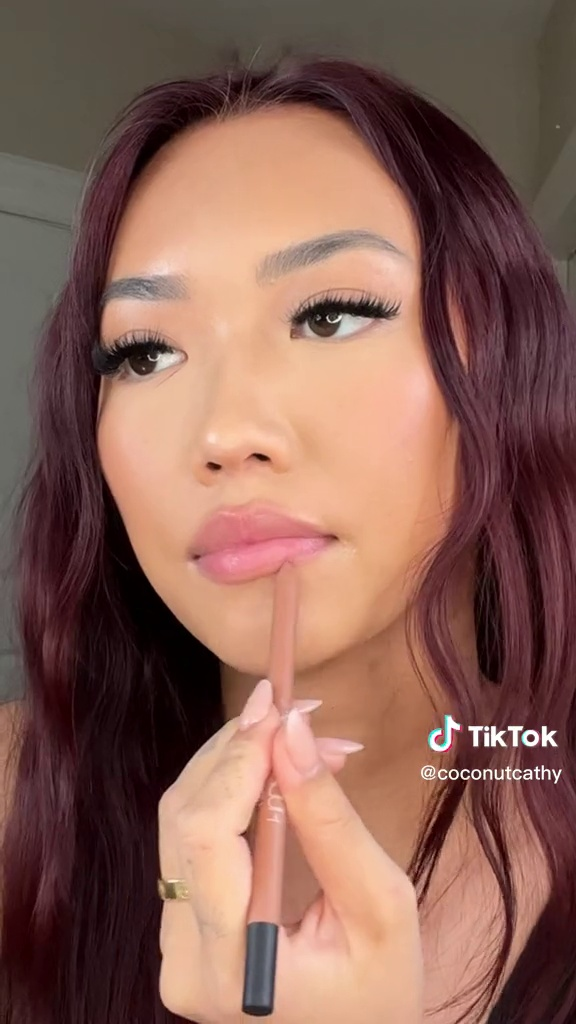train' :'yolo_data/train/images',: (225, 552, 312, 1018)
